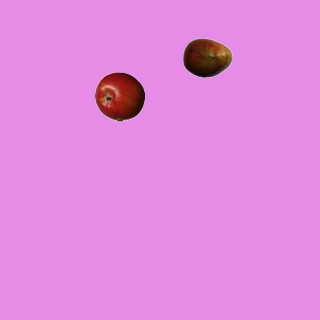Apple Braeburn: (94, 71, 144, 121)
Mango Red: (182, 32, 232, 82)
